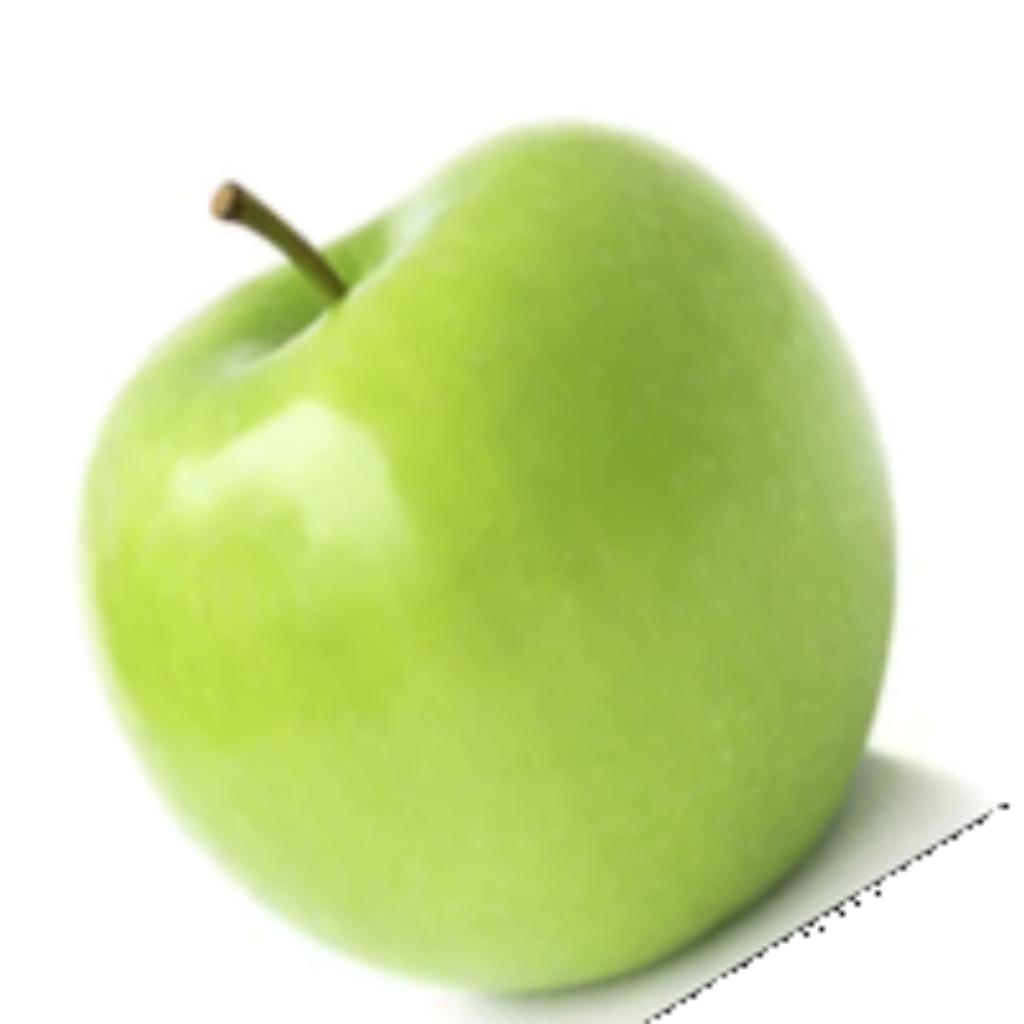apple: (67, 108, 998, 1019)
